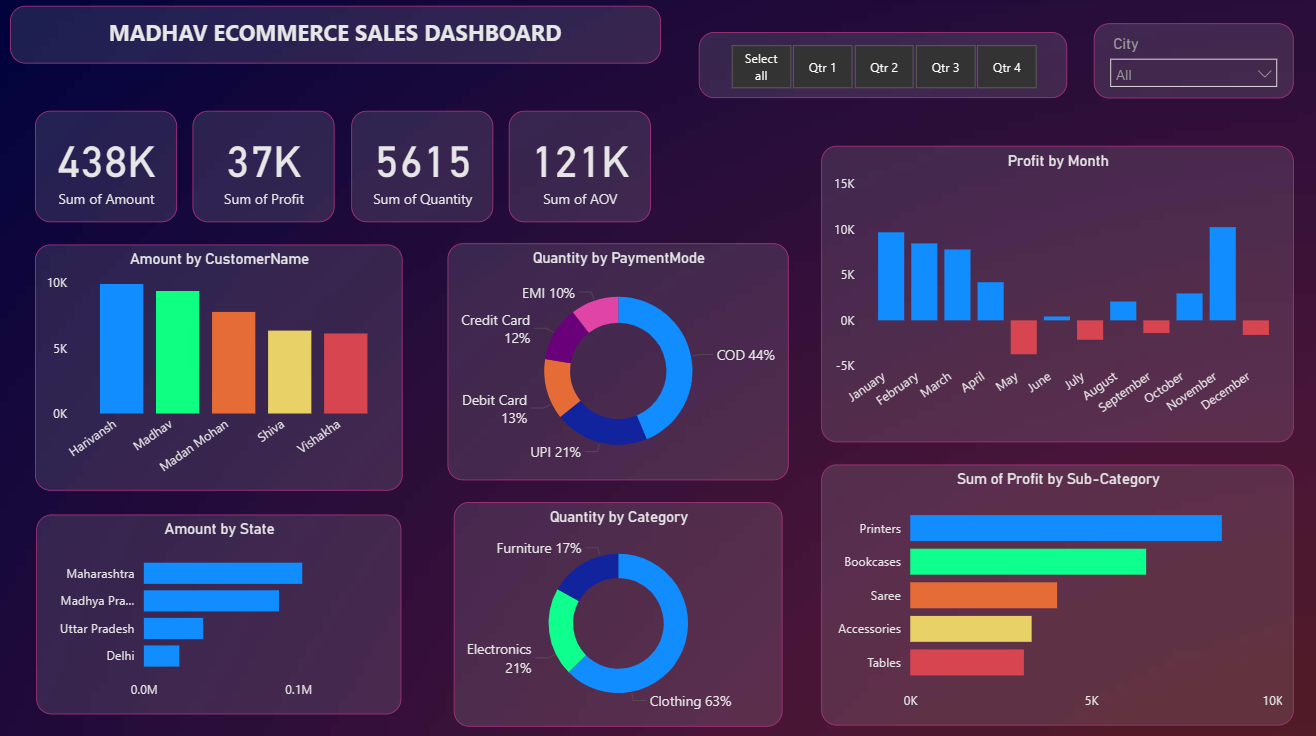

The dashboard page shown, as its layout file describes it:
{"tool":"powerbi","page":{"name":"Page 1","canvas":[1280,720],"ordinal":0},"visuals":[{"type":"textbox","box":[10,8.8,630,56.2],"z":0},{"type":"columnChart","title":"Profit by Month","fields":{"Category":["Orders.Order Date.Variation.Date Hierarchy.Month"],"Y":["Details.Profit"]},"box":[795.3,144,457.6,286.9],"z":1000},{"type":"barChart","fields":{"Category":["Details.Sub-Category"],"Y":["Details.Profit"]},"box":[795.3,452.7,457.6,253],"z":2000},{"type":"donutChart","title":"Quantity by Category","fields":{"Category":["Details.Category"],"Y":["Details.Quantity"]},"box":[439.4,489,318.4,217.9],"z":3000},{"type":"donutChart","title":"Quantity by PaymentMode","fields":{"Category":["Details.PaymentMode","Details.Category"],"Y":["Details.Quantity"]},"box":[433.4,238.5,330.5,230],"z":4000},{"type":"card","fields":{"Values":["Details.Amount"]},"box":[33.9,110.2,138,107.7],"z":5000},{"type":"card","fields":{"Values":["Details.Profit"]},"box":[186.4,110.2,138,107.7],"z":6000},{"type":"card","fields":{"Values":["Details.Quantity"]},"box":[340.1,110.2,138,107.7],"z":7000},{"type":"card","fields":{"Values":["Details.AOV"]},"box":[492.7,110.2,138,107.7],"z":8000},{"type":"barChart","title":"Amount by State","fields":{"Category":["Orders.State"],"Y":["Details.Amount"]},"box":[35.1,501.1,353.5,193.7],"z":9000},{"type":"columnChart","title":"Amount by CustomerName","fields":{"Category":["Orders.CustomerName"],"Y":["Details.Amount"]},"box":[33.9,239.7,355.9,238.5],"z":10000},{"type":"slicer","fields":{"Values":["Orders.Order Date.Variation.Date Hierarchy.Quarter"]},"box":[676.7,33.9,357.1,64.2],"z":11000},{"type":"slicer","fields":{"Values":["Orders.City"]},"box":[1059.2,25.4,193.7,72.6],"z":12000}]}

Visuals, with their boxes in screenshot pixels (x1, y1, x2, y2), scaled from the page's 1280x720 canvas onto the 1316x736 screenshot:
textbox: {"x1": 10, "y1": 9, "x2": 658, "y2": 66}
"Profit by Month" columnChart: {"x1": 818, "y1": 147, "x2": 1288, "y2": 440}
barChart - Details.Sub-Category x Details.Profit: {"x1": 818, "y1": 463, "x2": 1288, "y2": 721}
"Quantity by Category" donutChart: {"x1": 452, "y1": 500, "x2": 779, "y2": 723}
"Quantity by PaymentMode" donutChart: {"x1": 446, "y1": 244, "x2": 785, "y2": 479}
card - Details.Amount: {"x1": 35, "y1": 113, "x2": 177, "y2": 223}
card - Details.Profit: {"x1": 192, "y1": 113, "x2": 334, "y2": 223}
card - Details.Quantity: {"x1": 350, "y1": 113, "x2": 492, "y2": 223}
card - Details.AOV: {"x1": 507, "y1": 113, "x2": 648, "y2": 223}
"Amount by State" barChart: {"x1": 36, "y1": 512, "x2": 400, "y2": 710}
"Amount by CustomerName" columnChart: {"x1": 35, "y1": 245, "x2": 401, "y2": 489}
slicer - Orders.Order Date.Variation.Date Hierarchy.Quarter: {"x1": 696, "y1": 35, "x2": 1063, "y2": 100}
slicer - Orders.City: {"x1": 1089, "y1": 26, "x2": 1288, "y2": 100}
